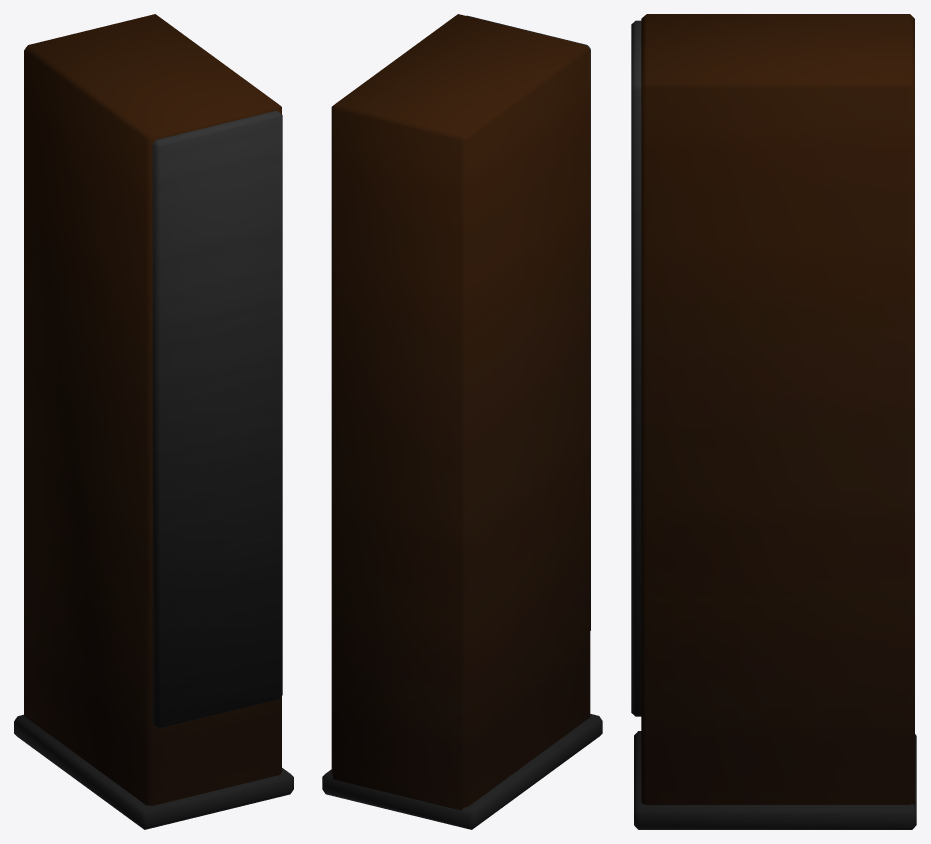
The model's file is SM_Musical_Instrument_11.fbx.
The picture shows the model from 3 angles, left to right: view 1: azimuth 30°, elevation 25°; view 2: azimuth 150°, elevation 25°; view 3: azimuth 270°, elevation 25°; orthographic projection. The views are drawn at different scales.
Parts seen in each view (by area): view 1: SM_Musical_Instrument_11; view 2: SM_Musical_Instrument_11; view 3: SM_Musical_Instrument_11.
Boxes of the visible parts, left/top/right/bottom form: SM_Musical_Instrument_11: left=14, top=14, right=293, bottom=829; SM_Musical_Instrument_11: left=322, top=14, right=602, bottom=829; SM_Musical_Instrument_11: left=631, top=14, right=916, bottom=829.
Bounding box in the file's own units: 23.21 × 100 × 34.8.
1 material, 1 textured.
